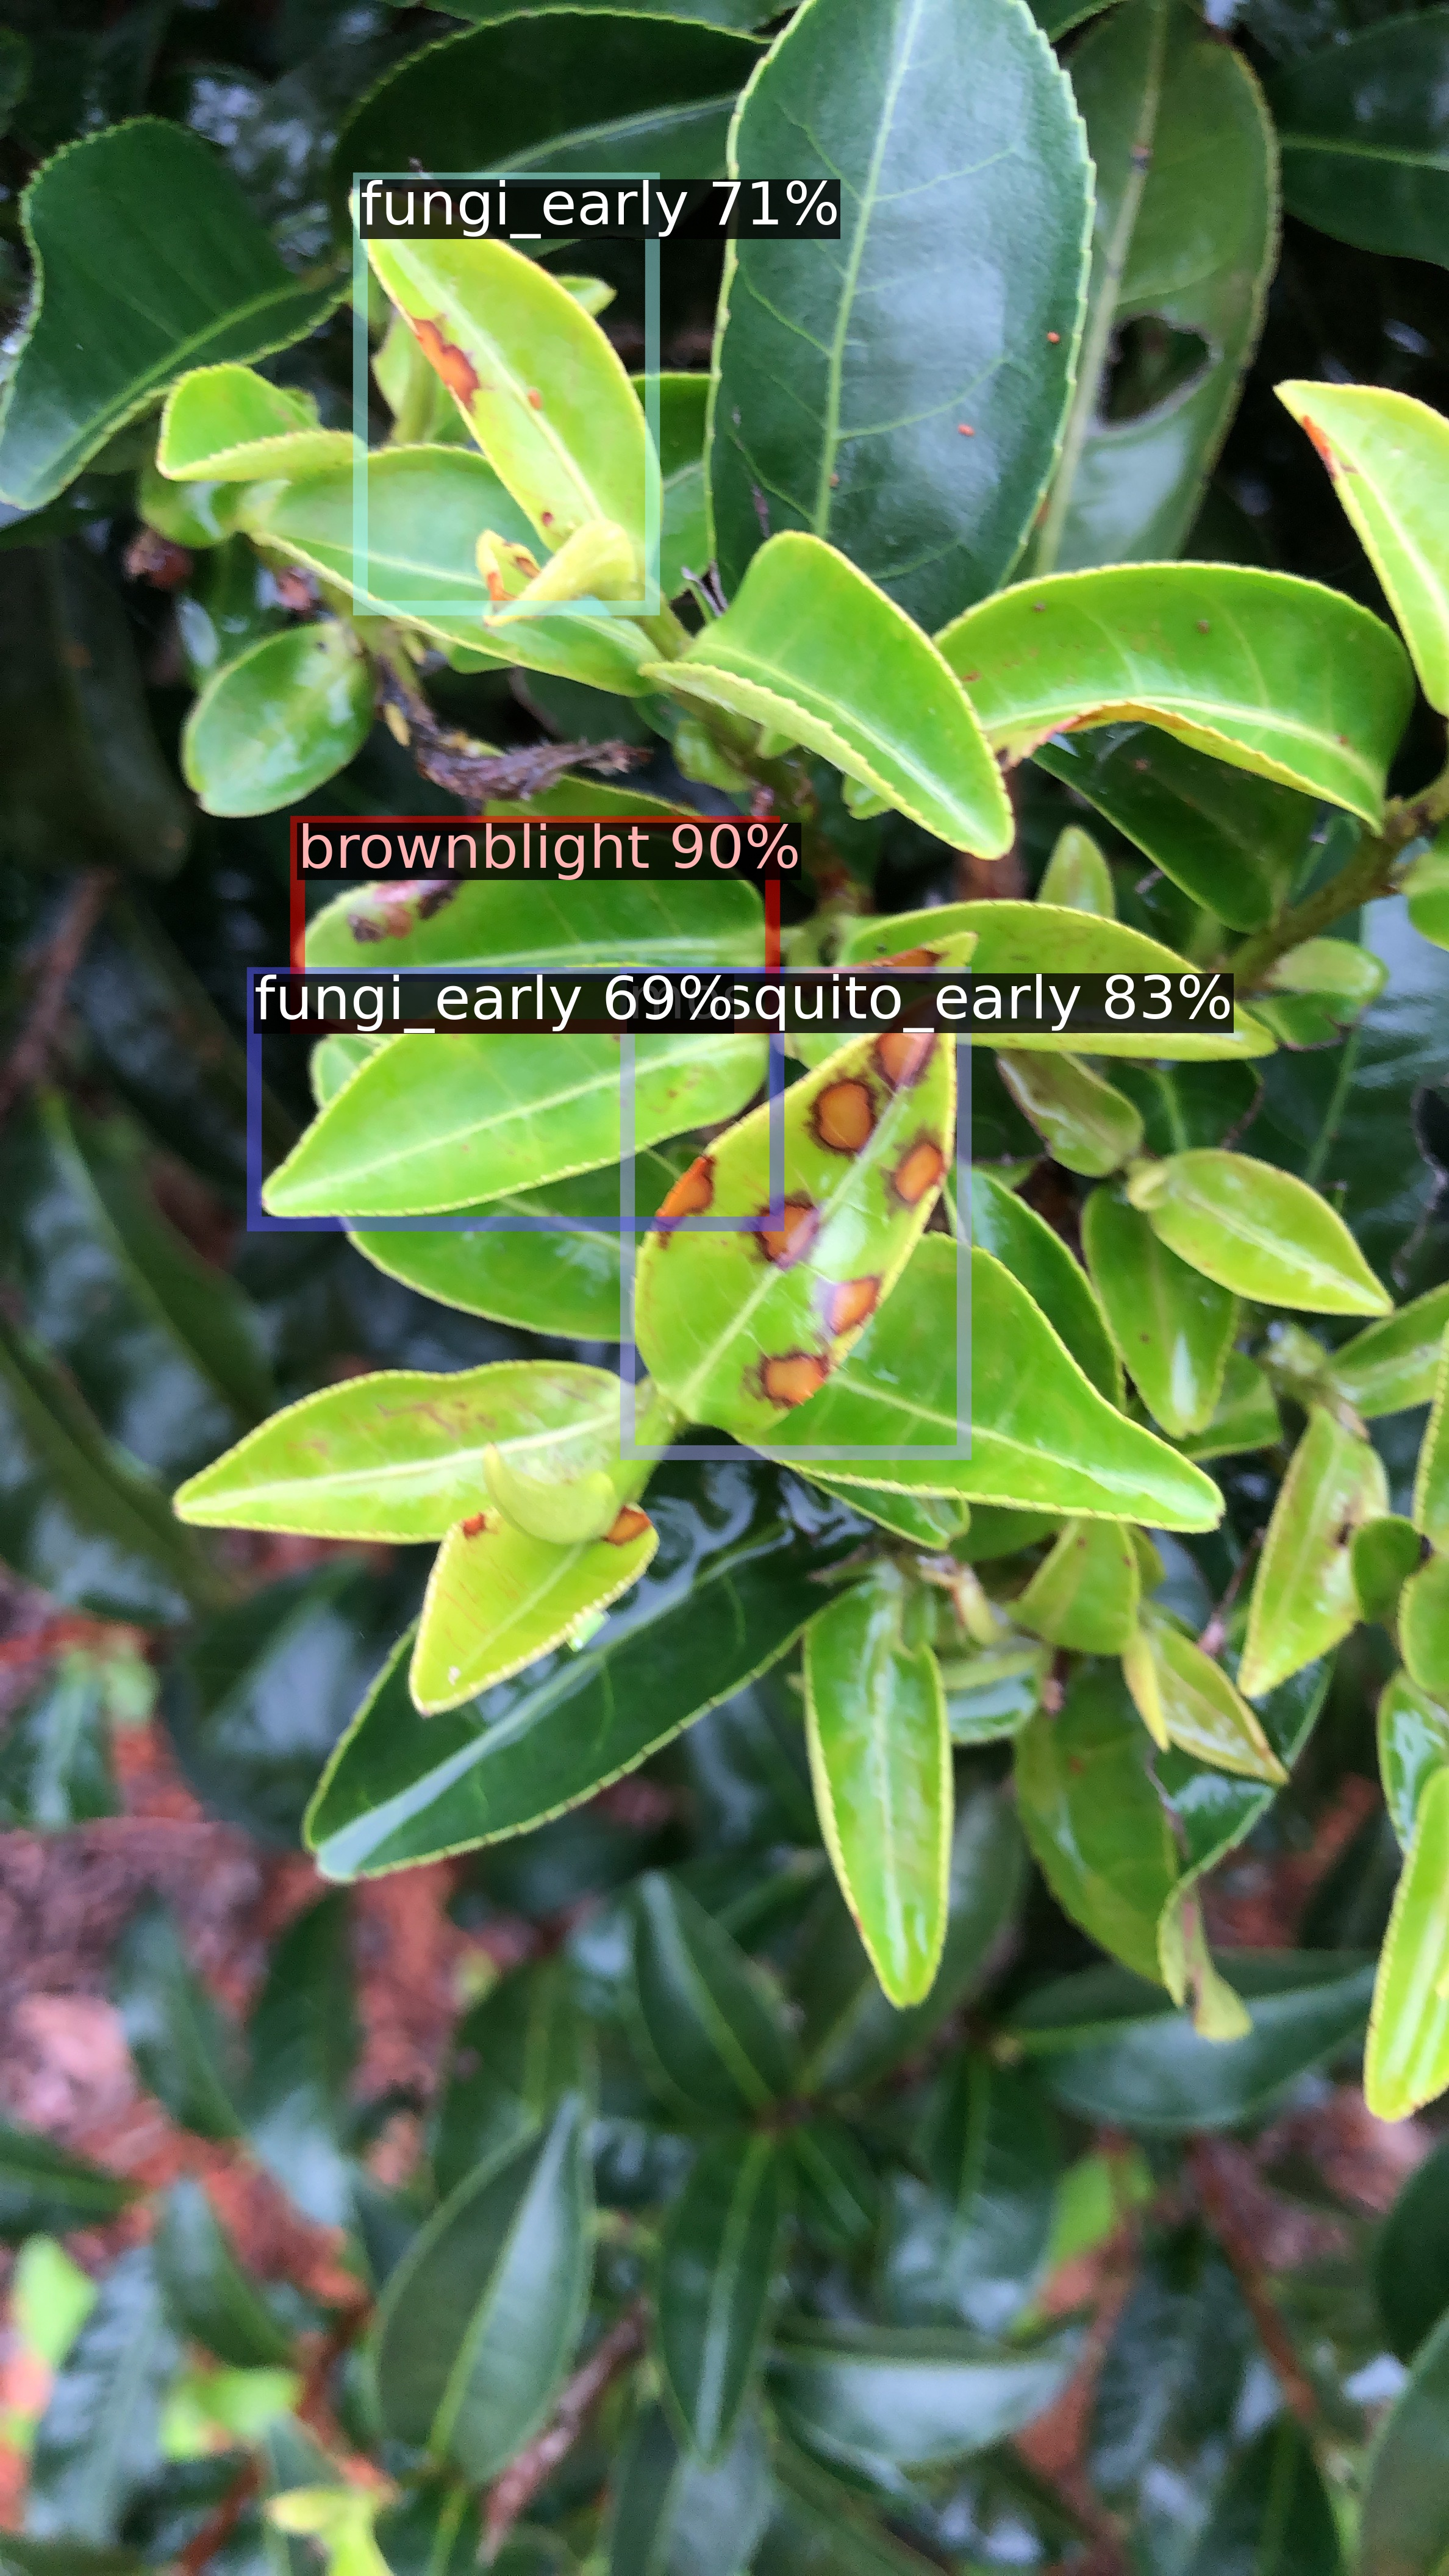brownblight: (297, 823, 771, 1026)
fungi_early: (253, 973, 777, 1223), (359, 179, 653, 609)
mosquito_early: (628, 973, 964, 1453)
